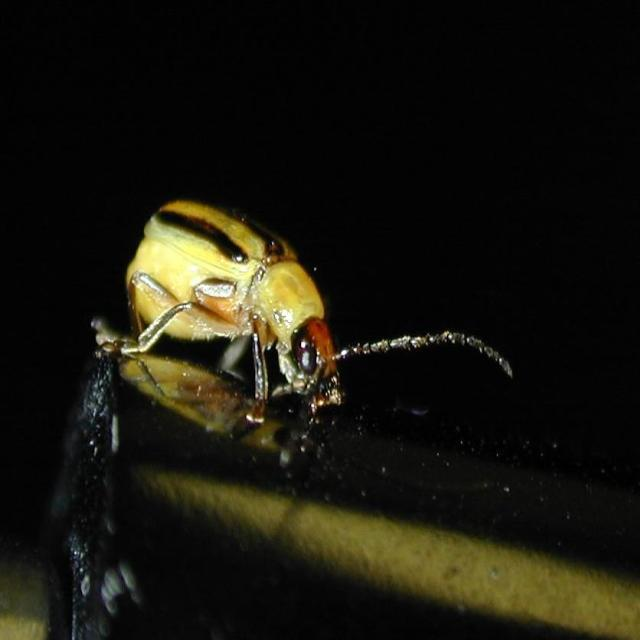trips: (91, 196, 516, 423)
